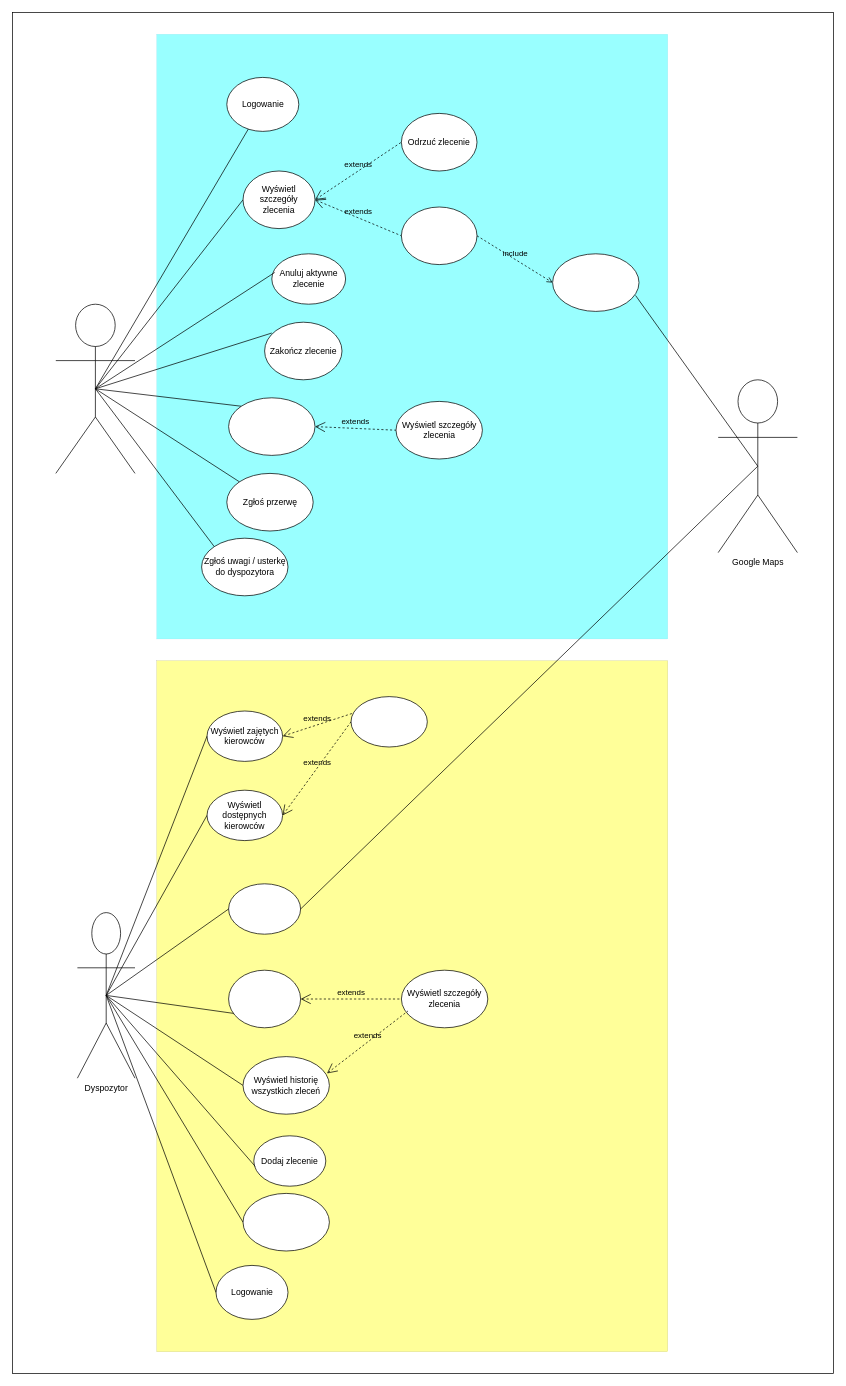
Some shapes in this 846 by 1386 pixel diagram are drawn without their labels. Here are the shapes that lost their labels. From the top down, the centre of each, then its label:
the point at 439,235: Zaakceptuj zlecenie
the point at 595,282: Ustaw nawigację
the point at 95,388: Kierowca
the point at 271,426: Wyświetl historię swoich zleceń
the point at 388,721: Wyświetl informacje o kierowcy
the point at 264,908: Wyświetl mapę kierowców
the point at 264,998: Wyświetl aktywne zlecenia
the point at 285,1222: Wyświetl uwagi od kierowców
